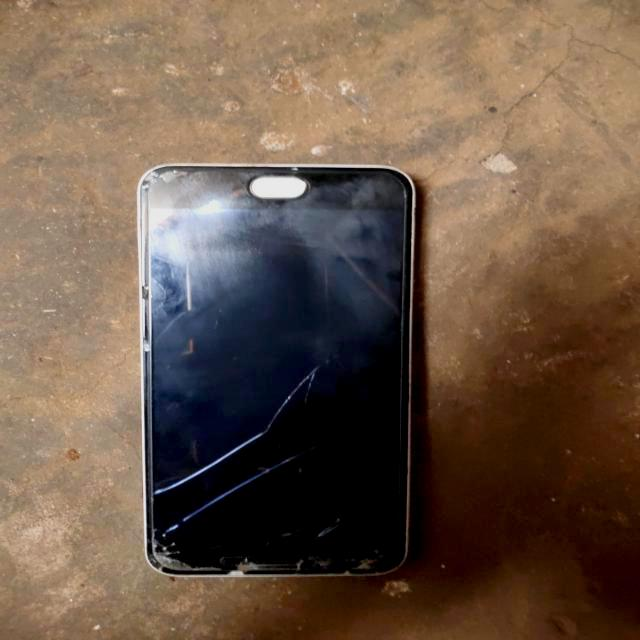phone: (136, 158, 422, 576)
